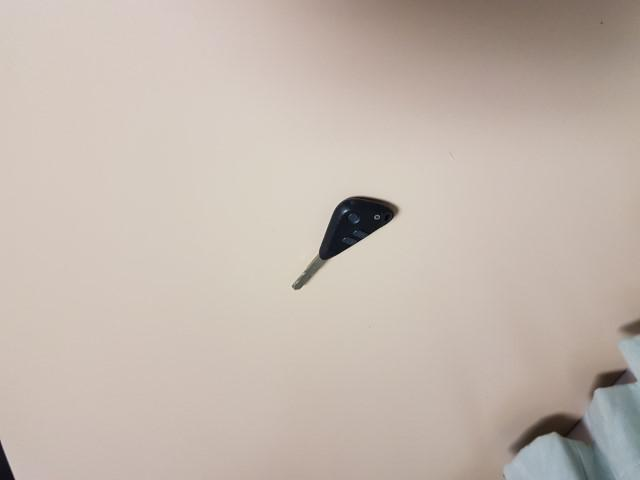key: (281, 188, 403, 297)
